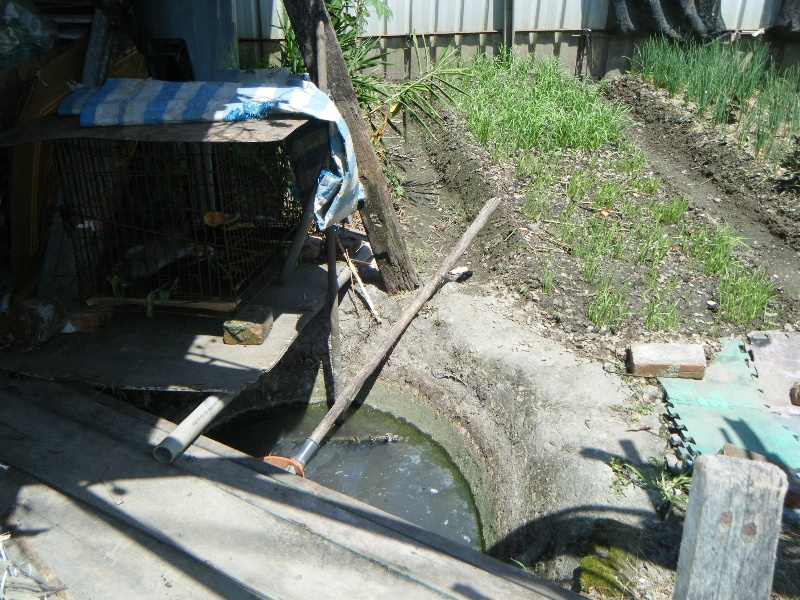plastic_bag: (58, 64, 370, 229)
